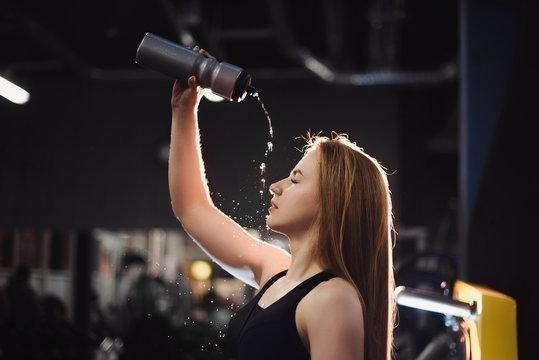gym bottle: (133, 31, 253, 103)
